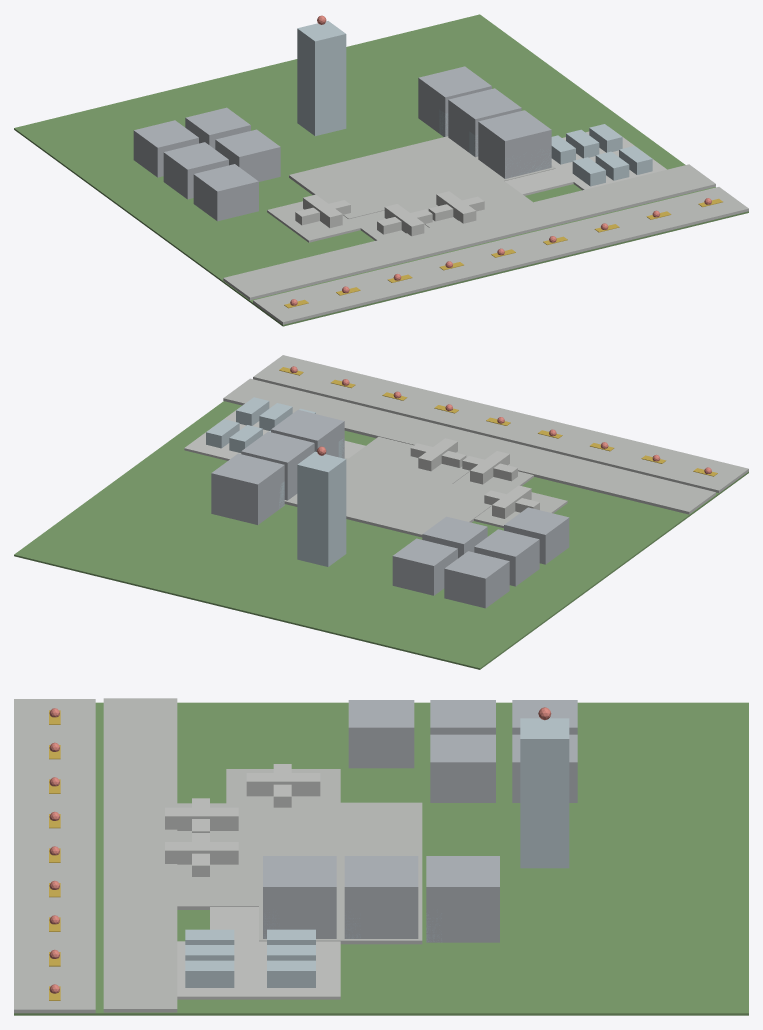
The model's file is stage_20.glb.
3 renders of one model, top to bottom at view 1: azimuth 30°, elevation 25°; view 2: azimuth 150°, elevation 25°; view 3: azimuth 270°, elevation 25°, orthographic. The views are drawn at different scales.
Visible parts, largest first — view 1: geometry_0; view 2: geometry_0; view 3: geometry_0.
Boxes of the visible parts, bbox=[...] form: geometry_0: bbox=[14, 14, 748, 326]; geometry_0: bbox=[14, 355, 748, 669]; geometry_0: bbox=[14, 698, 748, 1015].
Bounding box in the file's own units: 9 × 2.06 × 9.
